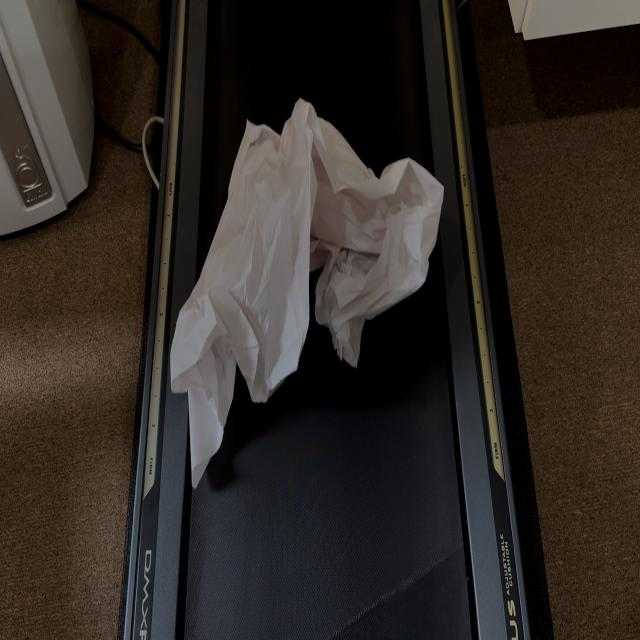Recycle: (161, 105, 459, 356)
